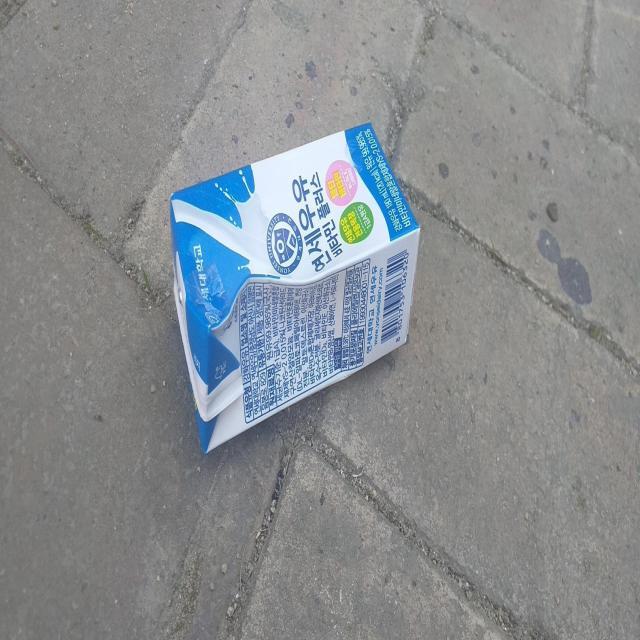paperpack: (170, 122, 420, 450)
